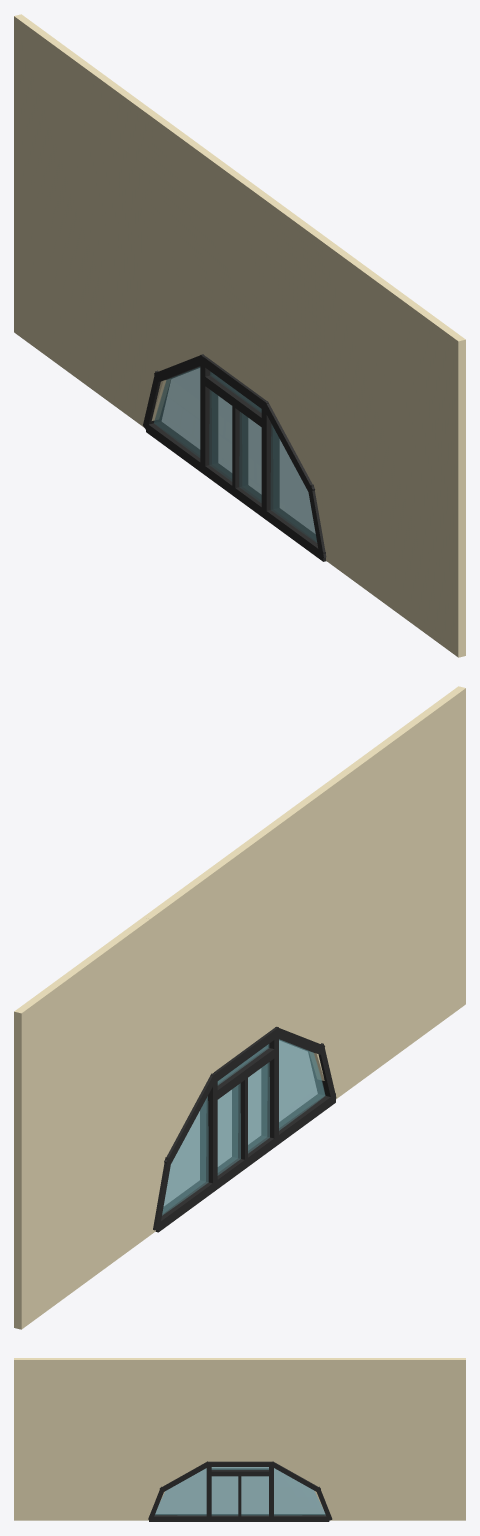
Rendered from windows4.fbx.
3 renders of one model, top to bottom at view 1: azimuth 30°, elevation 25°; view 2: azimuth 150°, elevation 25°; view 3: azimuth 270°, elevation 25°, orthographic. The views are drawn at different scales.
Parts seen in each view (by area): view 1: Cube.003, Cube.005, Sphere; view 2: Cube.003, Cube.005, Sphere; view 3: Cube.003, Sphere, Cube.005.
Part boxes in pixels (<box>): Cube.003: <box>14,14,465,657</box>; Cube.005: <box>143,354,326,561</box>; Sphere: <box>154,367,317,542</box>; Cube.003: <box>14,686,465,1329</box>; Cube.005: <box>153,1026,336,1232</box>; Sphere: <box>162,1039,325,1215</box>; Cube.003: <box>14,1358,465,1520</box>; Sphere: <box>155,1467,325,1515</box>; Cube.005: <box>148,1461,332,1521</box>.
Bounding box in the file's own units: 42.95 × 1005 × 2555.
